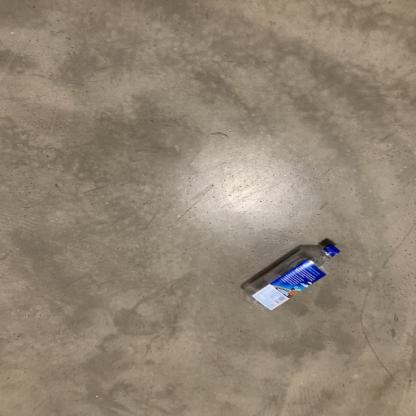trash: (240, 244, 340, 314)
